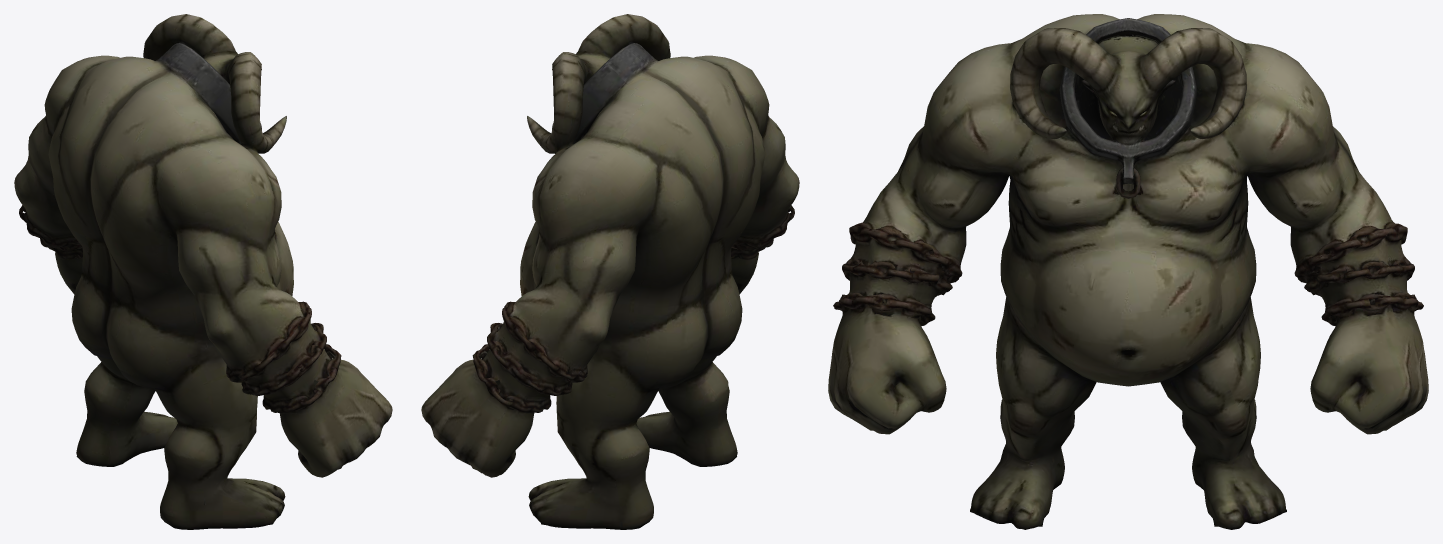
Rendered from glutton.glb.
3 renders of one model, left to right at view 1: azimuth 30°, elevation 25°; view 2: azimuth 150°, elevation 25°; view 3: azimuth 270°, elevation 25°, orthographic. The views are drawn at different scales.
Parts seen in each view (by area): view 1: tripo_node_a6017b80-77e3-4cde-9c33-112ad31993e7; view 2: tripo_node_a6017b80-77e3-4cde-9c33-112ad31993e7; view 3: tripo_node_a6017b80-77e3-4cde-9c33-112ad31993e7.
Part boxes in pixels (x1,y1,x2,y2): tripo_node_a6017b80-77e3-4cde-9c33-112ad31993e7: (14, 14, 392, 529); tripo_node_a6017b80-77e3-4cde-9c33-112ad31993e7: (421, 14, 799, 529); tripo_node_a6017b80-77e3-4cde-9c33-112ad31993e7: (828, 14, 1428, 529).
Bounding box in the file's own units: 0.4318 × 0.8986 × 0.9944.
Materials: 1 (1 with a texture image).
